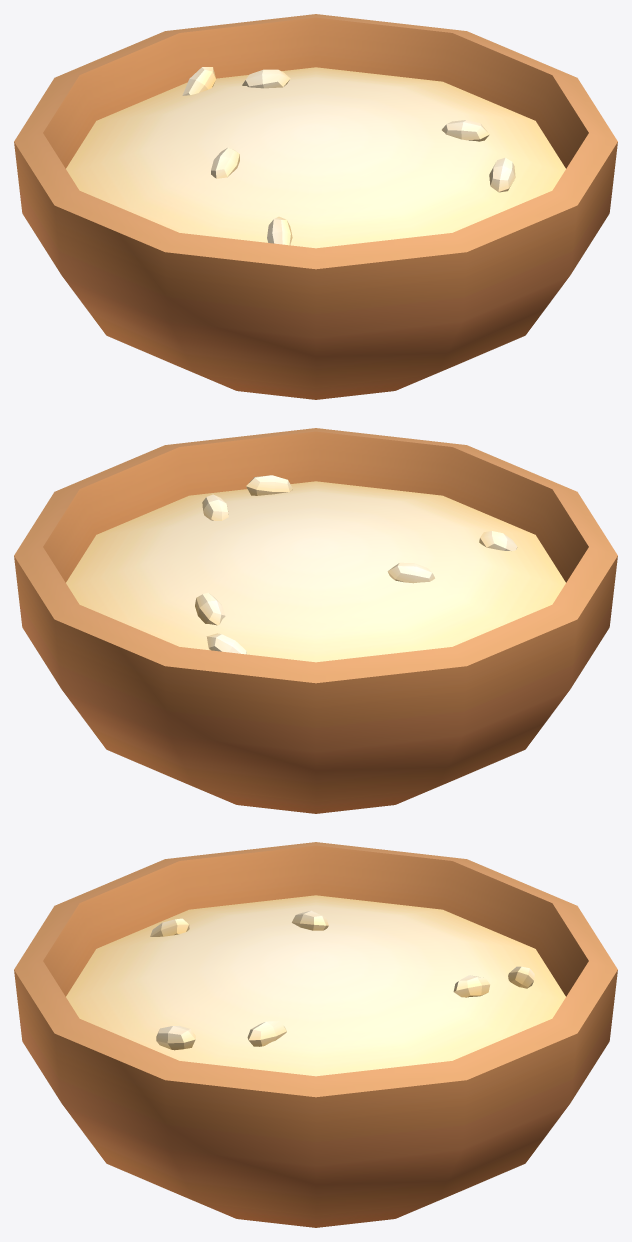
File: Rice_Bowl_001.gltf
3 renders of one model, top to bottom at view 1: azimuth 30°, elevation 25°; view 2: azimuth 150°, elevation 25°; view 3: azimuth 270°, elevation 25°, orthographic.
Visible parts, largest first — view 1: Rice_Bowl_001_x; view 2: Rice_Bowl_001_x; view 3: Rice_Bowl_001_x.
Part boxes in pixels (x1,y1,x2,y2): Rice_Bowl_001_x: (14,14,617,399); Rice_Bowl_001_x: (14,428,617,813); Rice_Bowl_001_x: (14,842,617,1227).
Bounding box in the file's own units: 1.45 × 0.5406 × 1.45.
1 material, 1 textured.
